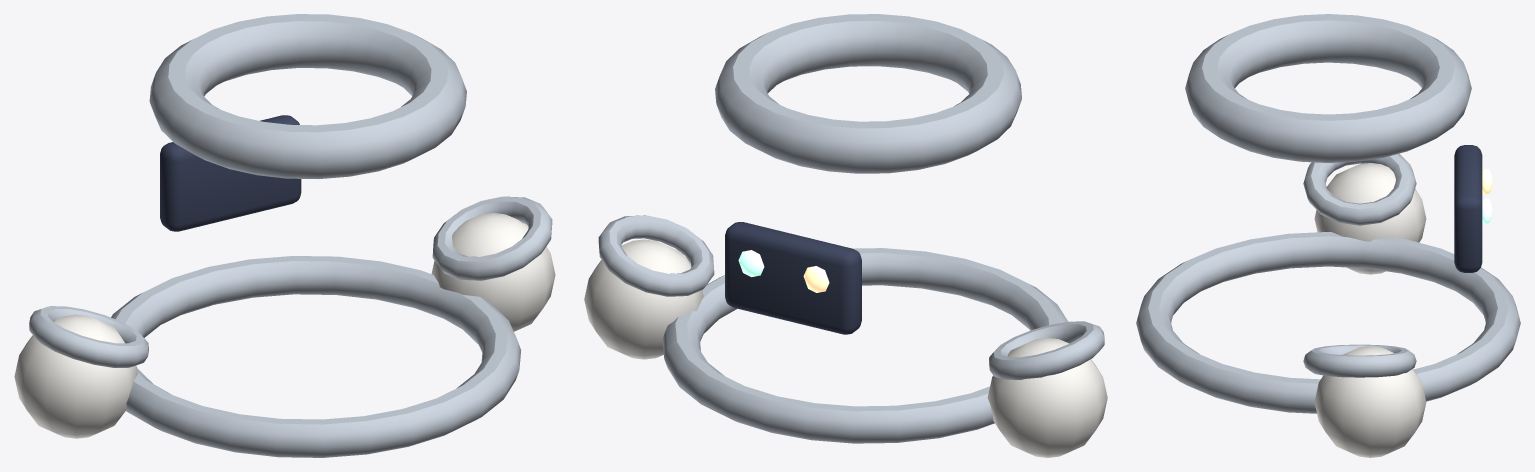
Rendered from Top_Spacesuit.fbx.
3 renders of one model, left to right at view 1: azimuth 30°, elevation 25°; view 2: azimuth 150°, elevation 25°; view 3: azimuth 270°, elevation 25°, orthographic. The views are drawn at different scales.
Visible parts, largest first — view 1: Neck_Ring, Suit_Belt, Glove.001, Suit_Panel, Glove, Cuff, Cuff.001; view 2: Neck_Ring, Suit_Belt, Suit_Panel, Glove.001, Glove, Cuff, Cuff.001, Suit_Led, Suit_Led.001; view 3: Neck_Ring, Suit_Belt, Glove, Glove.001, Cuff.001, Suit_Panel, Cuff.
Part boxes in pixels (<box>): Neck_Ring: <box>149,14,466,179</box>; Suit_Belt: <box>111,256,521,457</box>; Glove.001: <box>14,314,137,438</box>; Suit_Panel: <box>160,115,301,231</box>; Glove: <box>431,213,555,331</box>; Cuff: <box>432,196,552,280</box>; Cuff.001: <box>29,306,148,367</box>; Neck_Ring: <box>715,14,1021,173</box>; Suit_Belt: <box>662,248,1068,443</box>; Suit_Panel: <box>725,222,861,334</box>; Glove.001: <box>987,338,1107,457</box>; Glove: <box>584,239,703,359</box>; Cuff: <box>598,215,714,296</box>; Cuff.001: <box>989,321,1104,379</box>; Suit_Led: <box>738,250,764,276</box>; Suit_Led.001: <box>803,266,829,292</box>; Neck_Ring: <box>1185,14,1471,162</box>; Suit_Belt: <box>1136,232,1520,413</box>; Glove: <box>1314,346,1426,457</box>; Glove.001: <box>1314,163,1426,274</box>; Cuff.001: <box>1303,153,1416,225</box>; Suit_Panel: <box>1454,145,1482,272</box>; Cuff: <box>1303,344,1416,377</box>.
Bounding box in the file's own units: 78 × 46.33 × 55.
